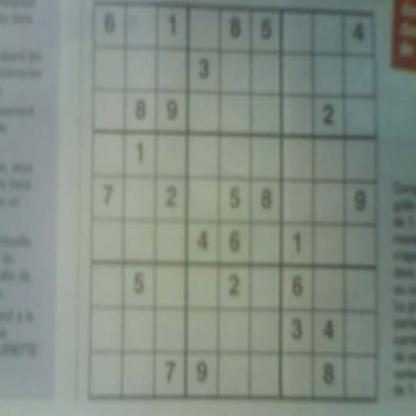sudoku: (85, 0, 382, 407)
